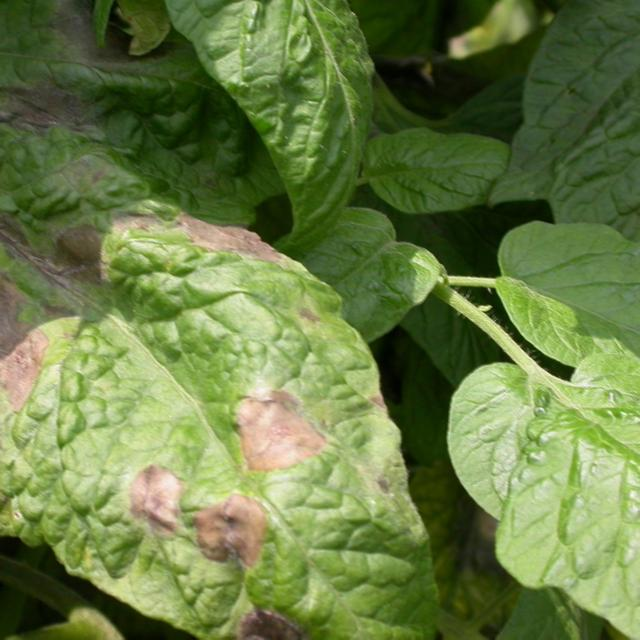Tomato leaf late blight: (0, 34, 433, 636), (507, 0, 640, 282)
